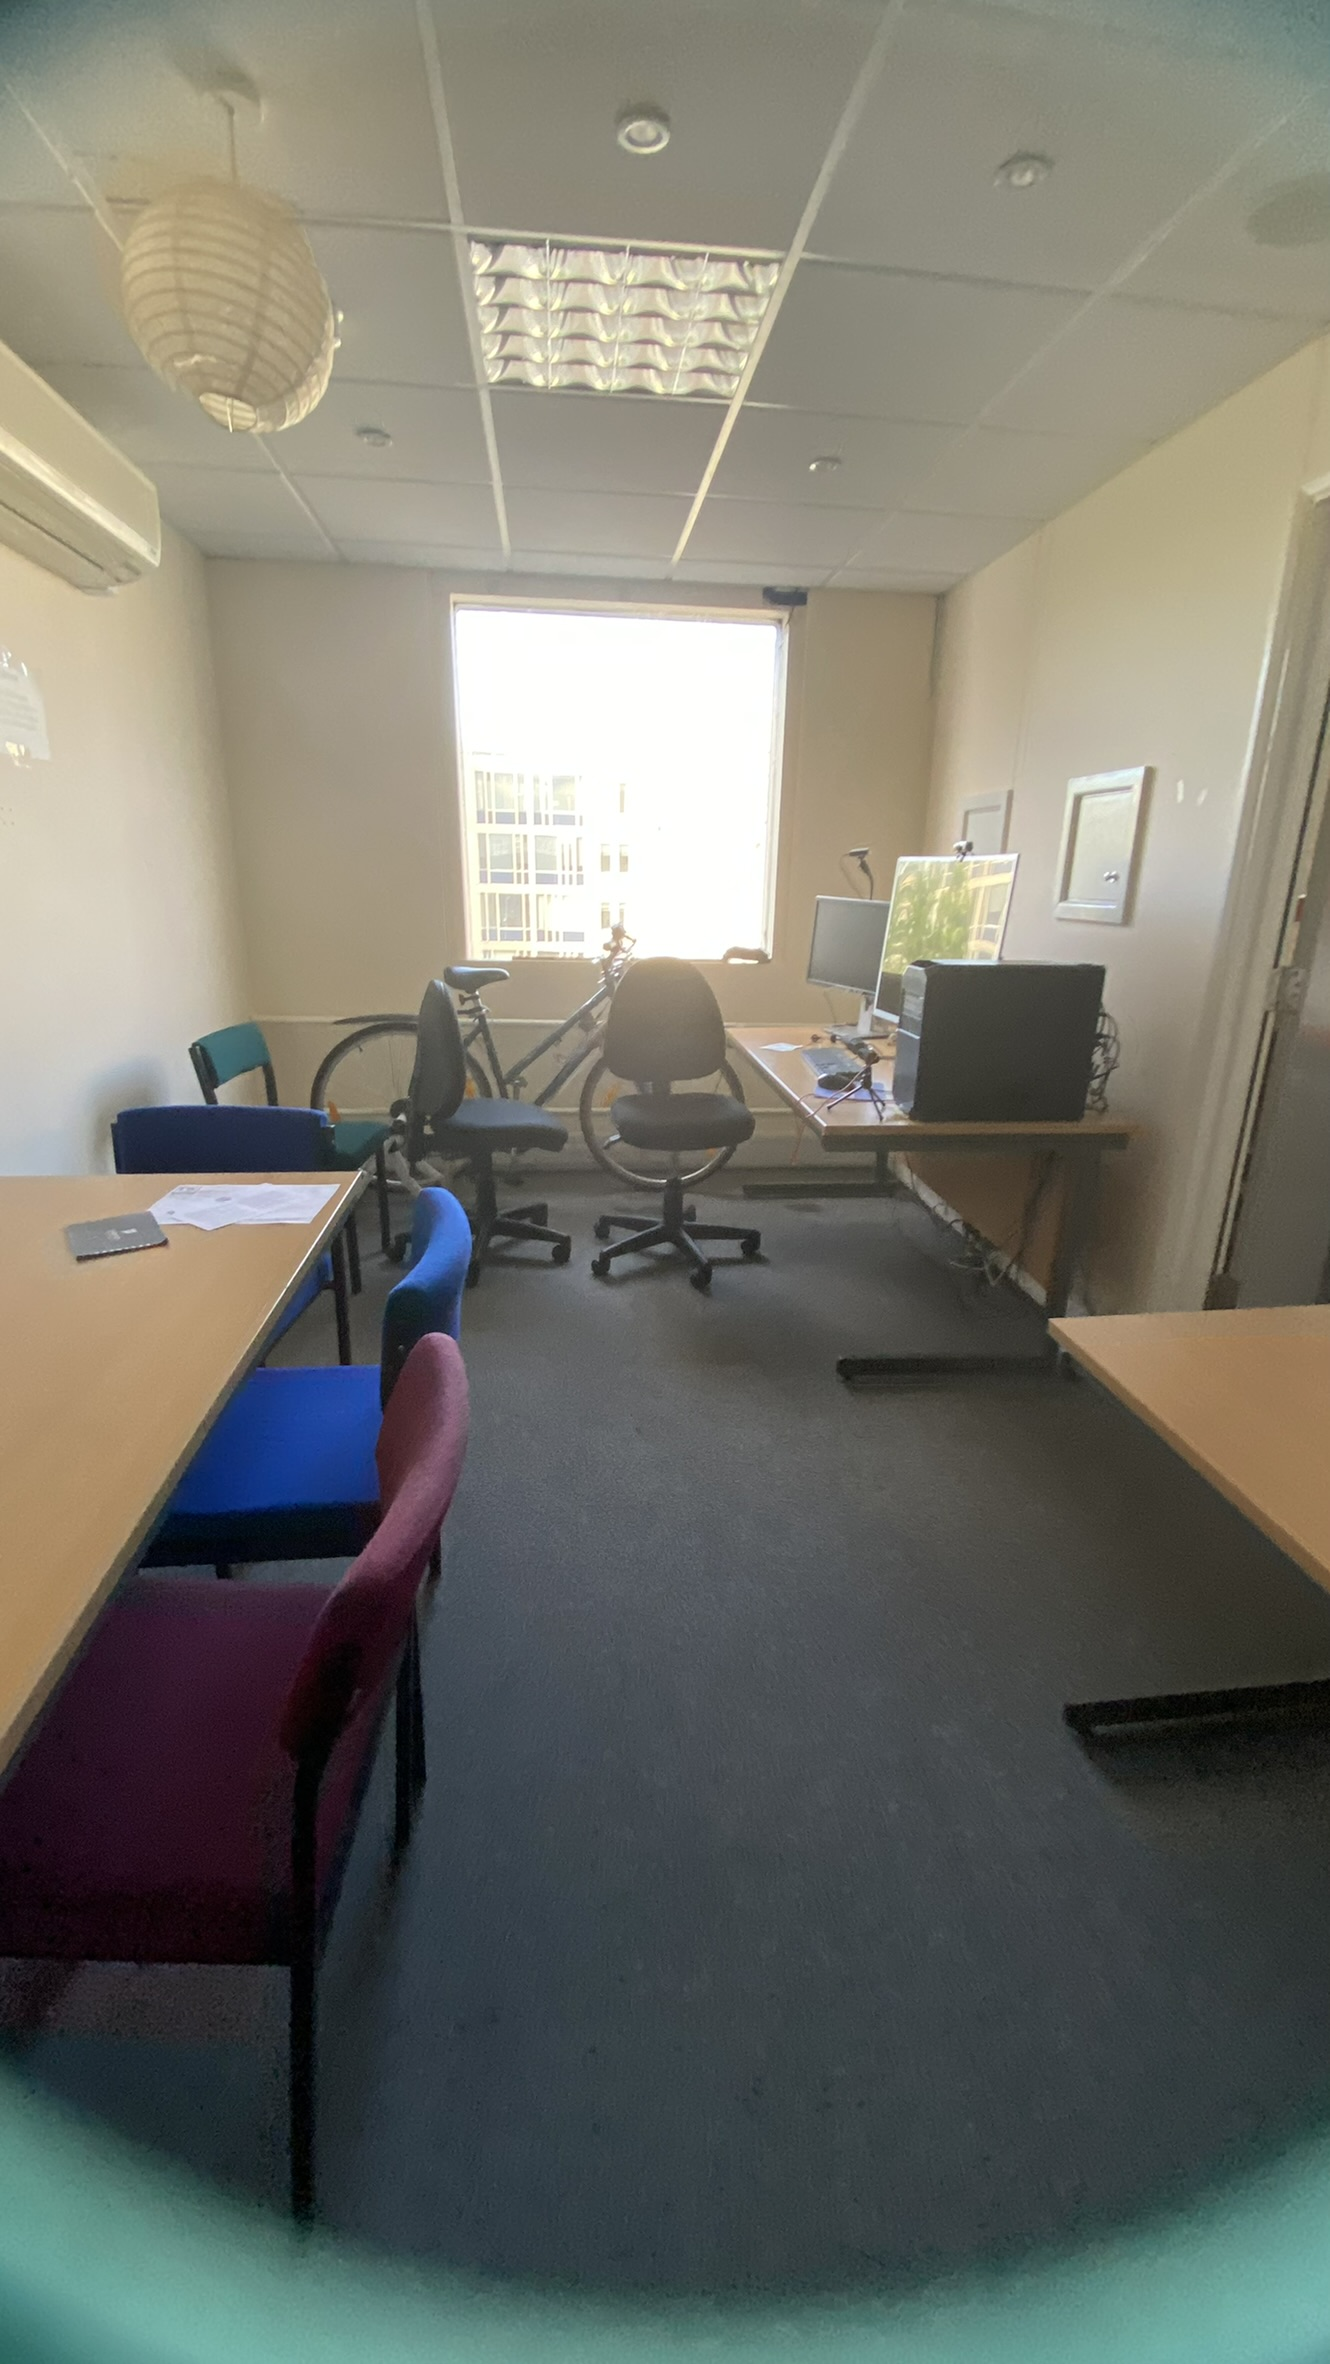chair: (19, 1359, 469, 2270), (573, 925, 789, 1404)
table: (8, 1112, 403, 2044), (978, 1214, 1330, 1841)
